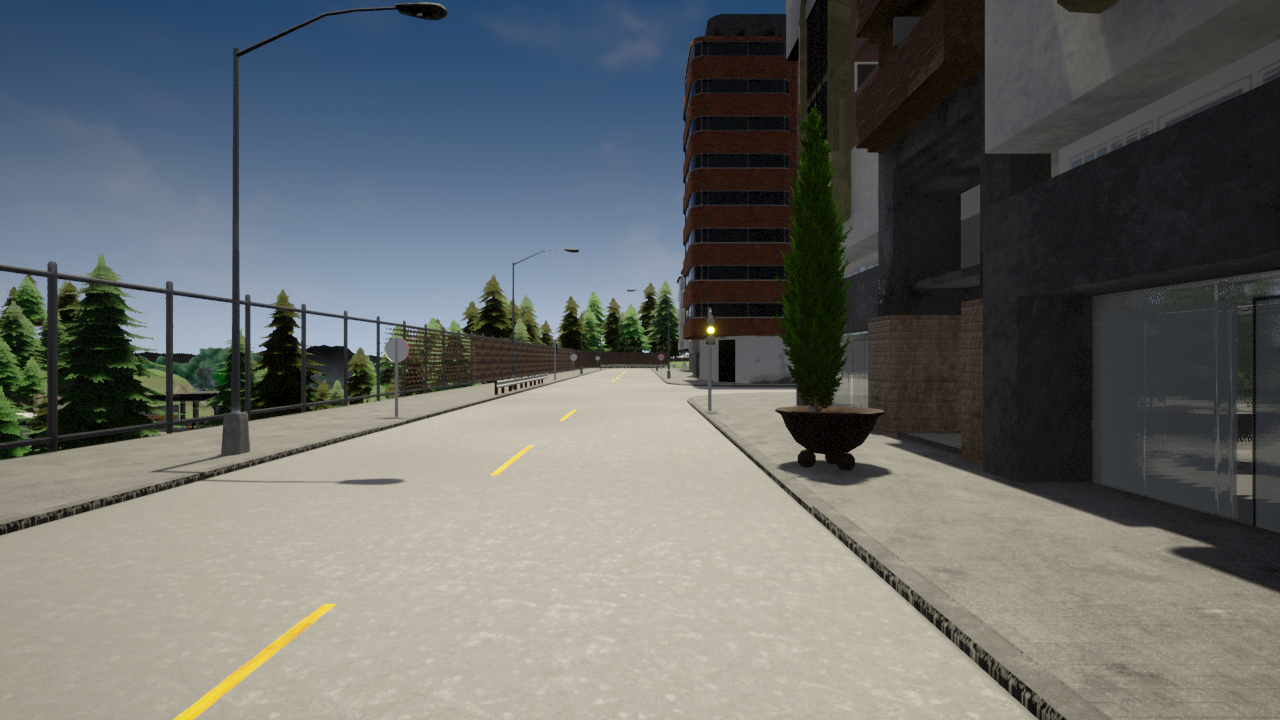yellow: (705, 315, 717, 346)
